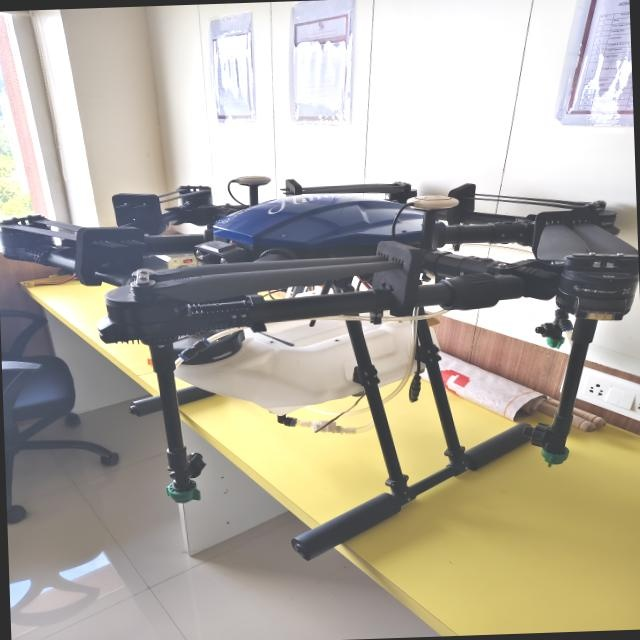agriculturedrone: (0, 152, 640, 577)
